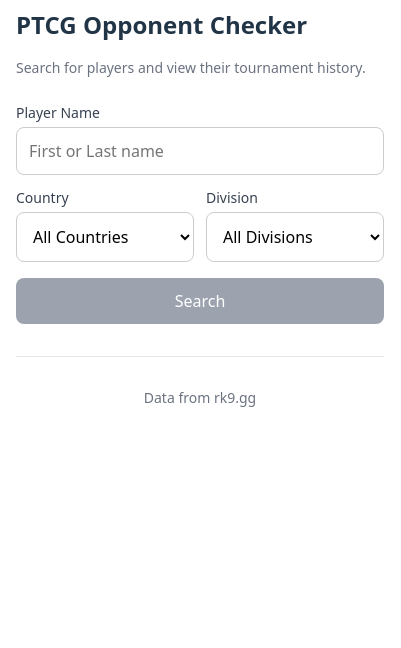
Scenario: App Integration Tests › 検索するとローディング状態になり、結果が表示される
The image size is (401, 648).
Type "Yamada" into the field labelled "Player Name".
click(200, 151); type("Yamada")  # box top-left (16, 127), bottom-right (384, 175)
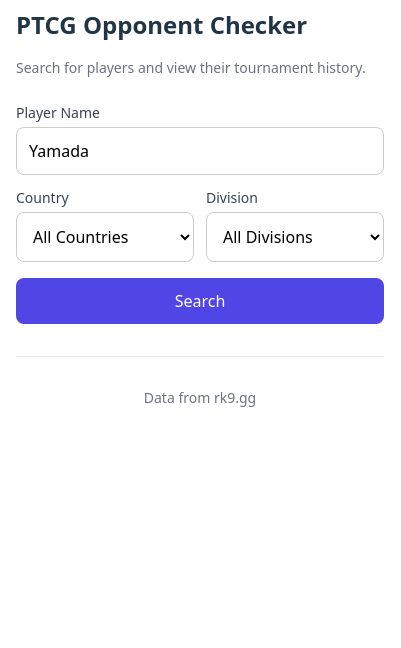
Note: 検索ボタンをクリック
Click the button "Search".
click(200, 301)  # box top-left (16, 278), bottom-right (384, 324)
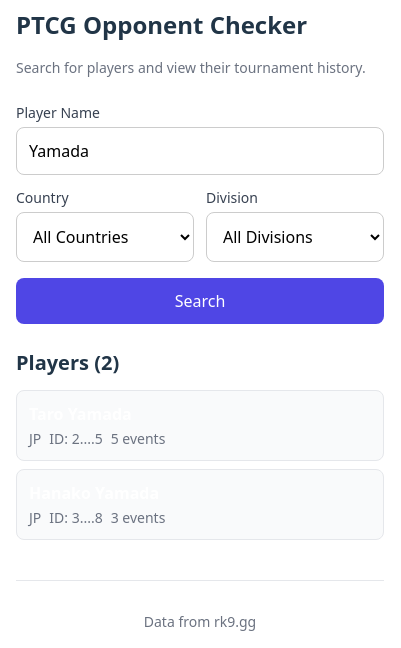
Check: the heading "Players (2)" is shown, box top-left (16, 349), bottom-right (119, 376)
